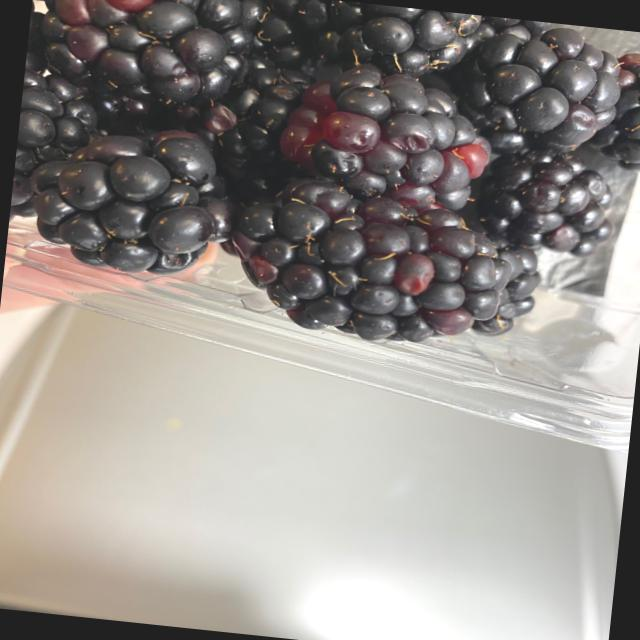blackberries: (9, 0, 640, 338)
